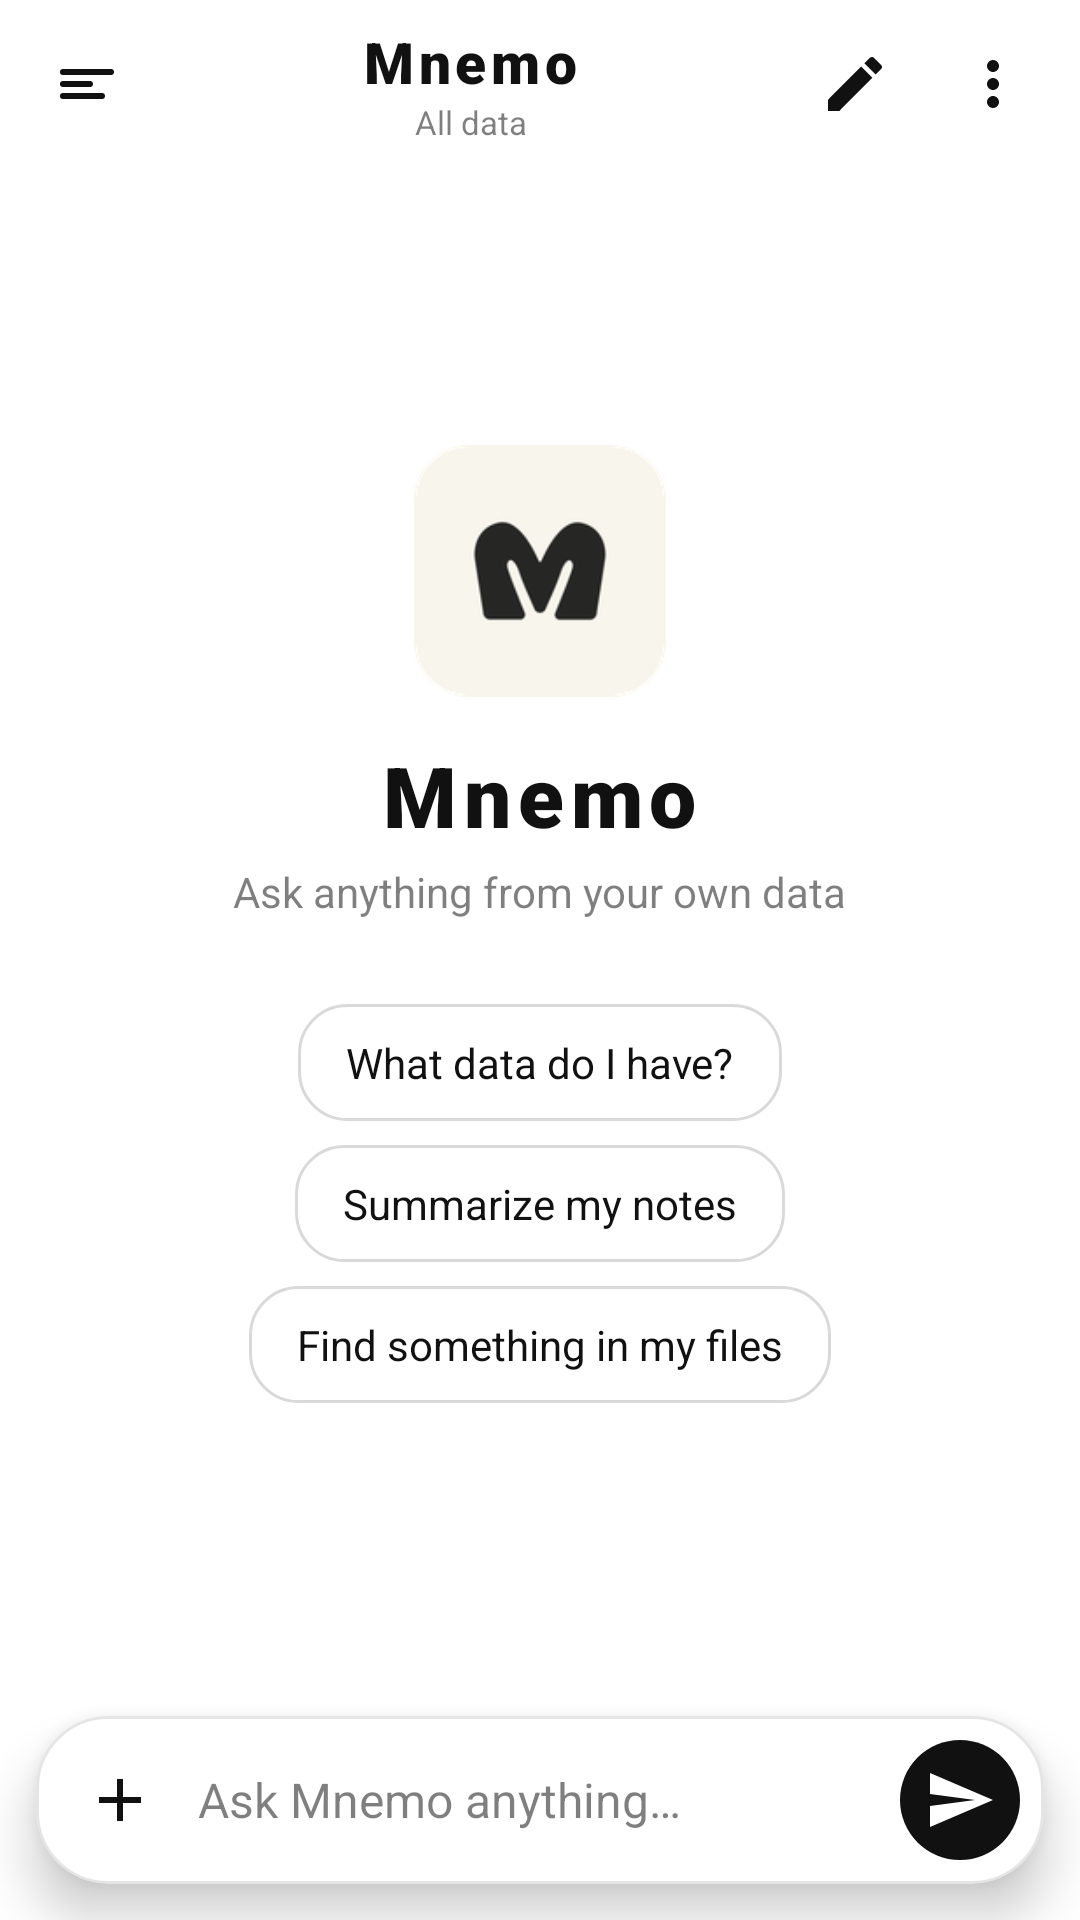

Icon bounding boxes for this 1080×1920 phone screenshot, format (x1, y1, x2, y2):
Add: (99, 1779, 141, 1821)
Menu: (60, 69, 114, 99)
More: (987, 60, 999, 108)
New chat: (828, 57, 882, 111)
Send: (900, 1740, 1020, 1860)
